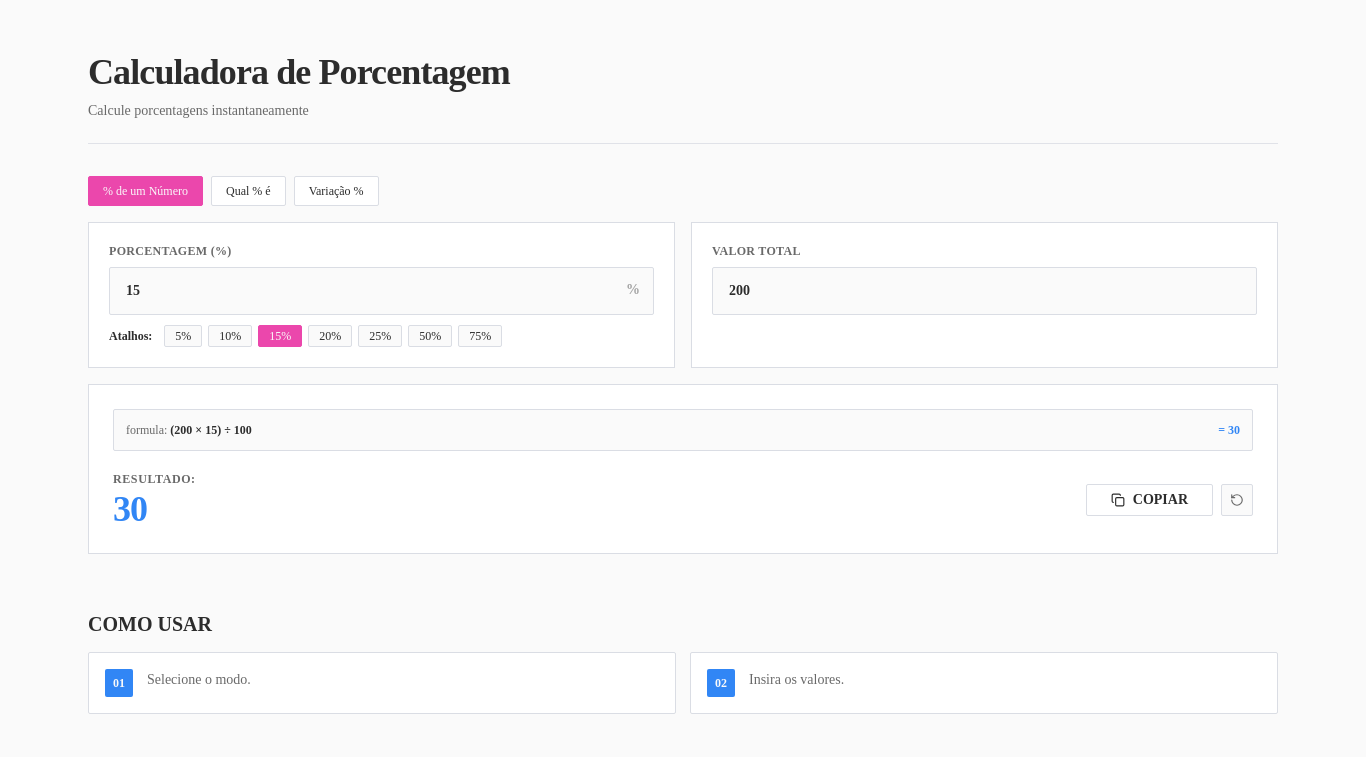
PercentageCalculatorClient › switches to whatPercent mode and calculates
Step 1. Click the tab "Qual % é" → point(248, 191), box x1=211 y1=176 x2=286 y2=206
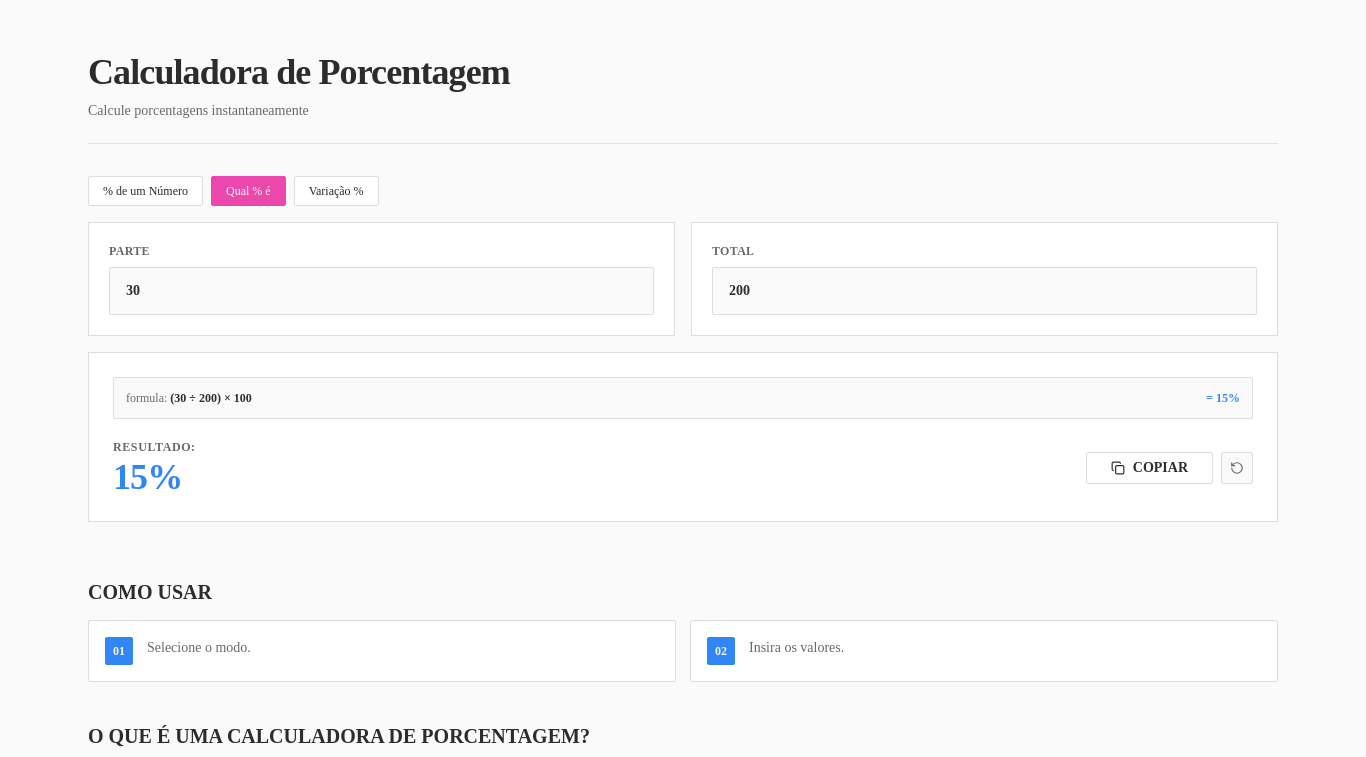
Expected: the text with test id "percentage-result" reads "15%", x1=113 y1=457 x2=182 y2=497
